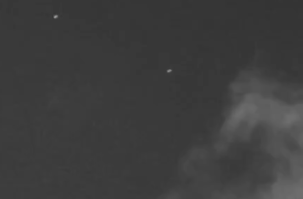Target: (54, 16, 171, 73)
